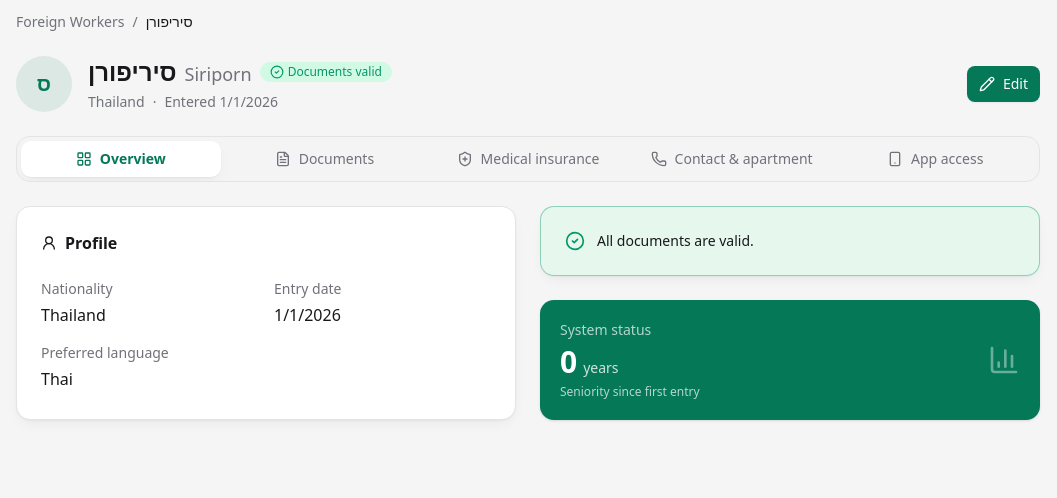
Test: WorkerDetail › reveals the decrypted identifier numbers and apartment on their tabs
The image size is (1057, 498).
Expected: the text "Siriporn" is shown, [184,62,252,86]
Passport number lives on the Documents tab.
Click the button "Documents": x=324, y=159 [225,141,424,177]
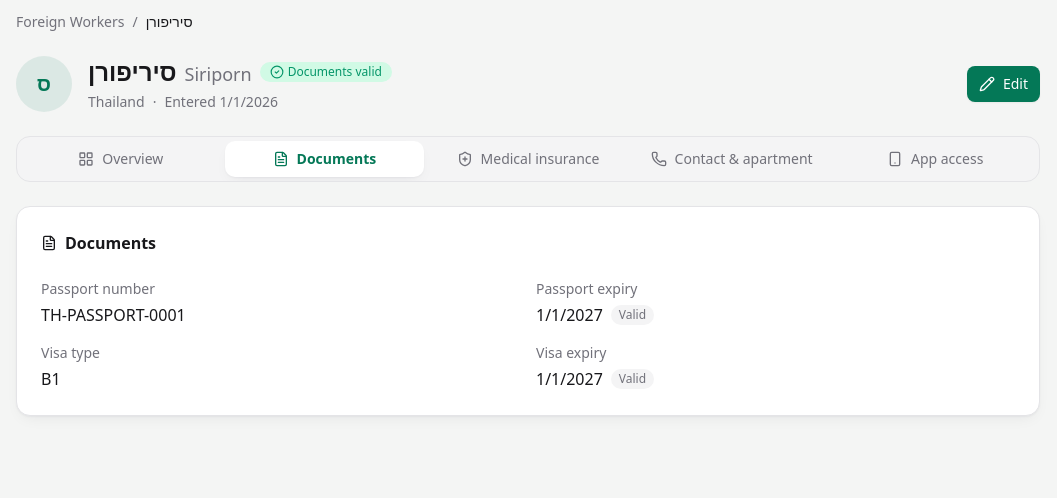
Expected: the text "TH-PASSPORT-0001" is shown, [41,304,186,326]
Policy number lives on the Insurance tab.
Click the button "Medical insurance": x=528, y=159 [428,141,628,177]
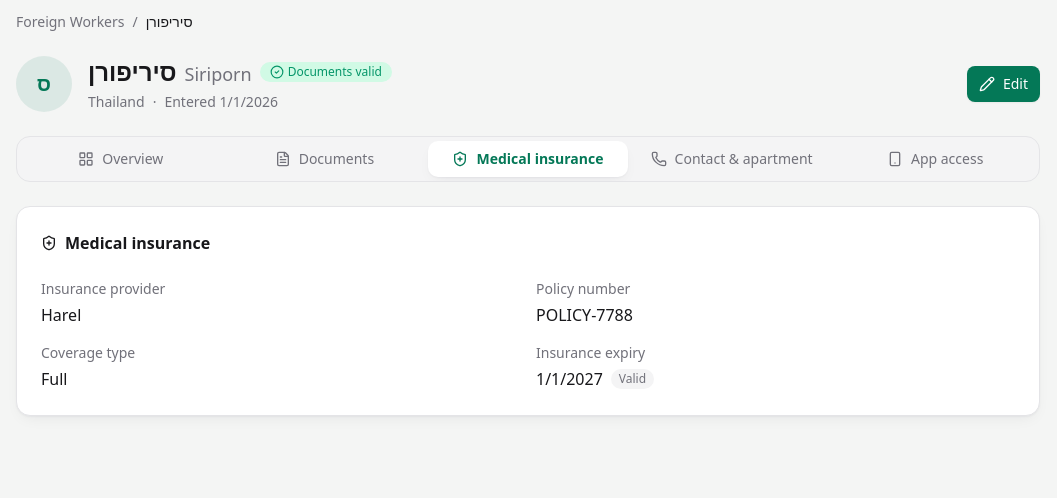
Expected: the text "POLICY-7788" is shown, [536,304,633,326]
Resolved apartment lives on the Contact tab.
Click the button "Contact & apartment": x=732, y=159 [632,141,831,177]
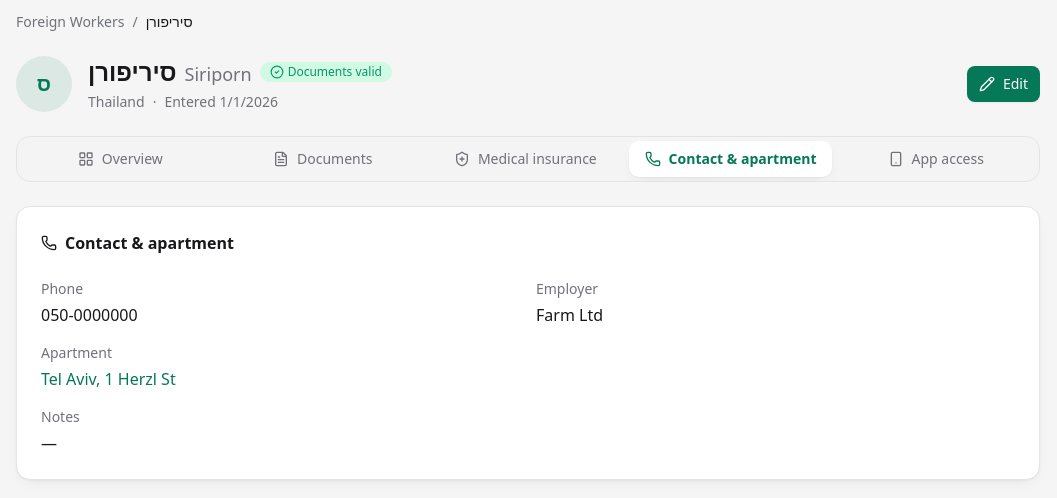
Expected: the link "Tel Aviv, 1 Herzl St" is shown, [41,368,176,390]
